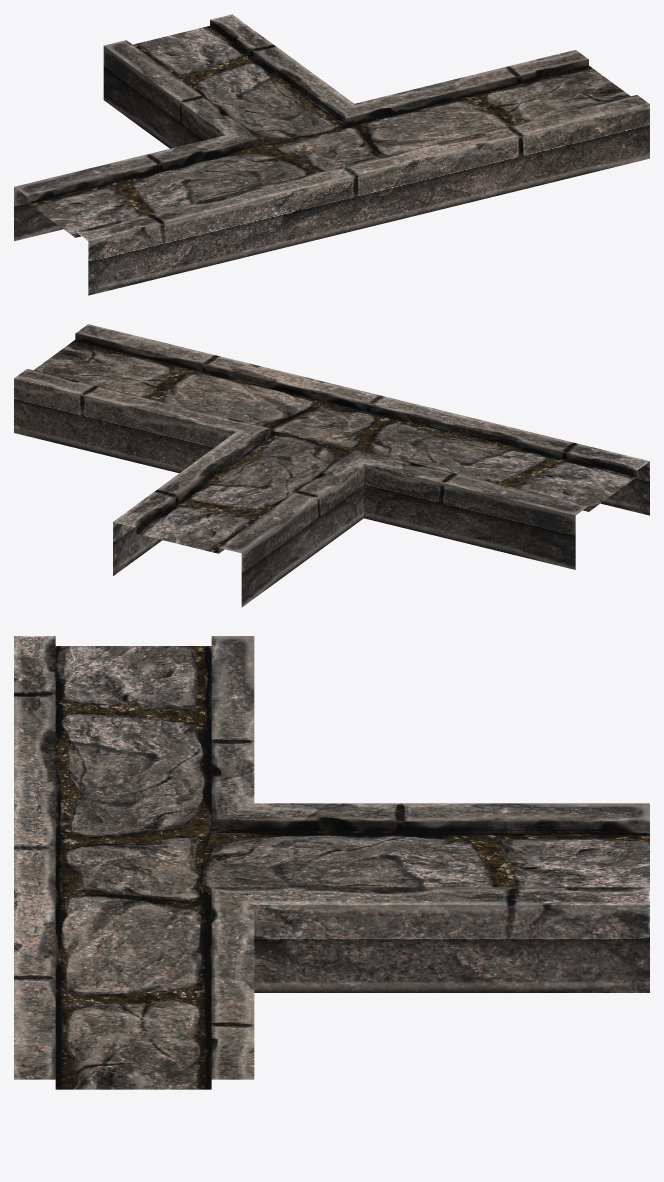
The model's file is dun_stone_bar03.FBX.
3 views of the same model, one above another, from view 1: azimuth 30°, elevation 25°; view 2: azimuth 150°, elevation 25°; view 3: azimuth 270°, elevation 25° (orthographic). The views are drawn at different scales.
Visible parts, largest first — view 1: dun_stone_bar03; view 2: dun_stone_bar03; view 3: dun_stone_bar03.
Part boxes in pixels (x1,y1,x2,y2): dun_stone_bar03: (14, 14, 649, 295); dun_stone_bar03: (14, 324, 649, 607); dun_stone_bar03: (14, 636, 649, 1089).
Bounding box in the file's own units: 297 × 27.53 × 180.
